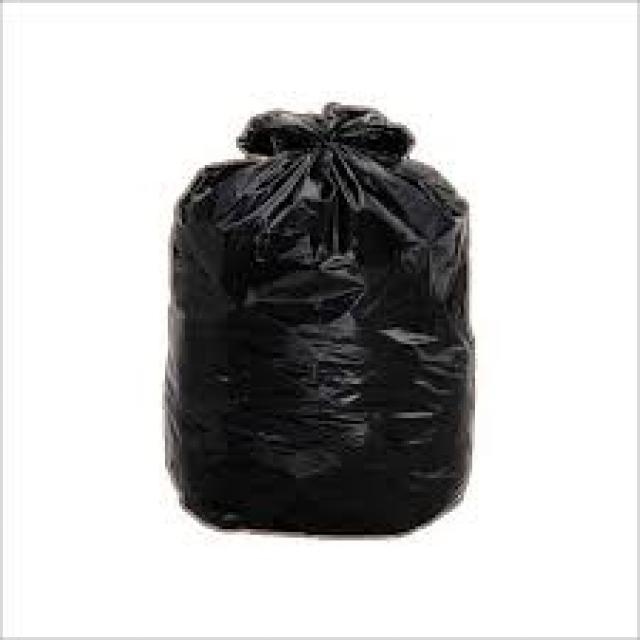plastic_bag: (169, 81, 476, 530)
